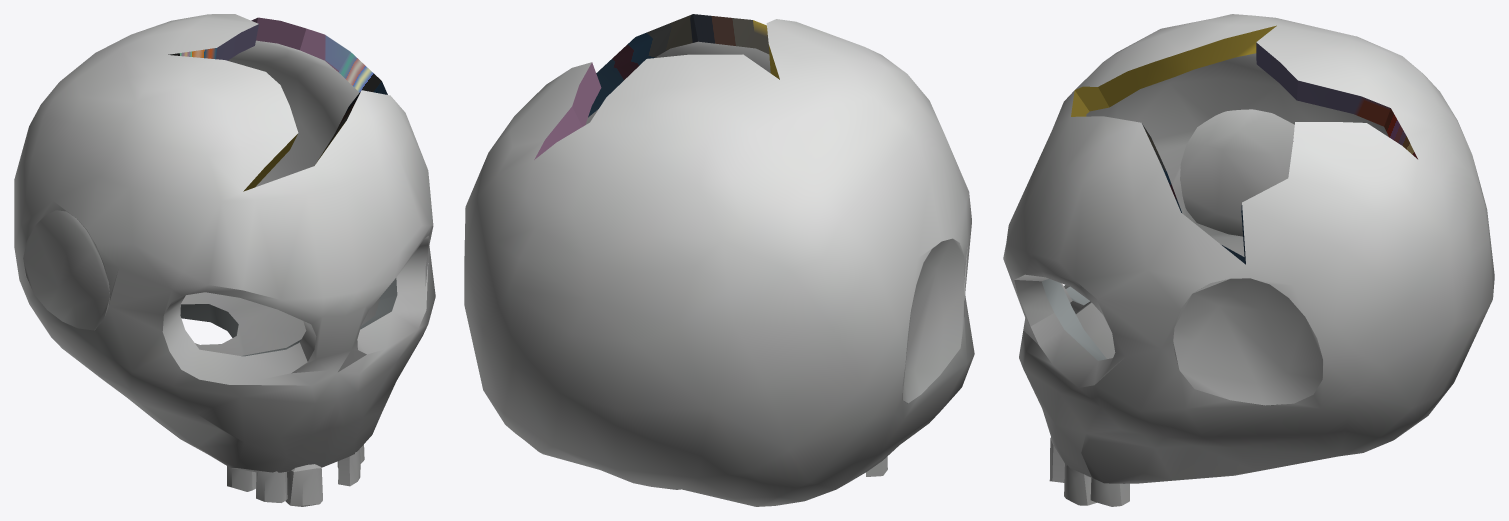
Rendered from brokenSkull.fbx.
The picture shows the model from 3 angles, left to right: view 1: azimuth 30°, elevation 25°; view 2: azimuth 150°, elevation 25°; view 3: azimuth 270°, elevation 25°; orthographic projection. The views are drawn at different scales.
Parts seen in each view (by area): view 1: Skeleton_.004; view 2: Skeleton_.004; view 3: Skeleton_.004.
Part boxes in pixels (x1,y1,x2,y2): Skeleton_.004: (14, 14, 435, 506); Skeleton_.004: (464, 14, 974, 506); Skeleton_.004: (1003, 14, 1494, 506).
Size of the model in its own units: 90.53 by 95.23 by 97.65.
